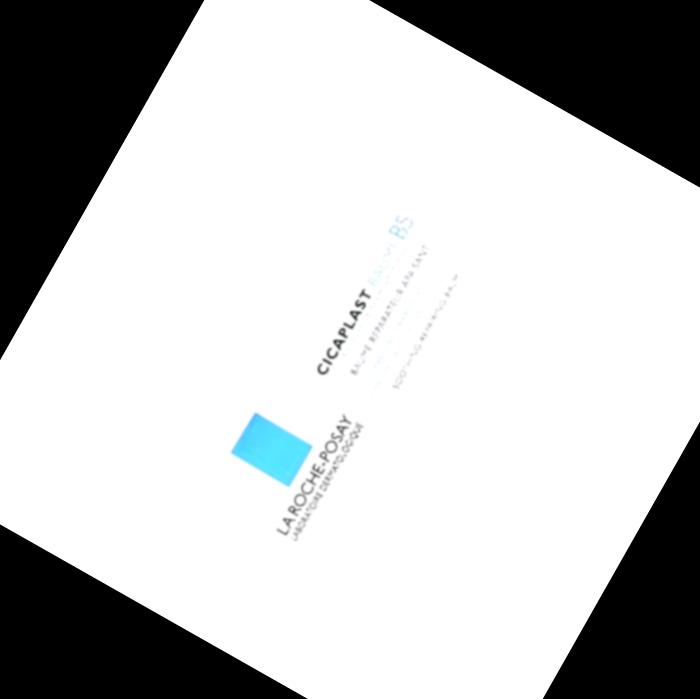cosmetic: (128, 63, 597, 646)
